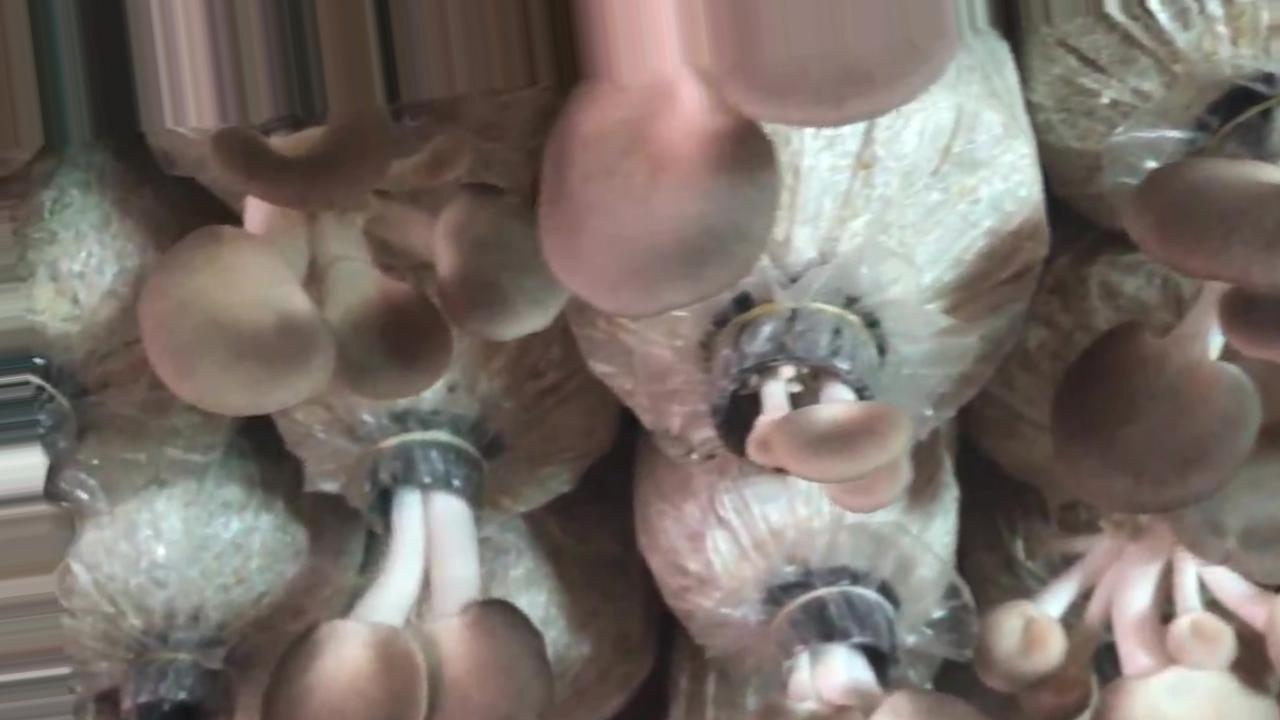nam: (536, 1, 956, 313), (145, 128, 570, 416), (1050, 99, 1280, 512), (263, 431, 549, 720), (978, 530, 1280, 717), (703, 307, 924, 517), (774, 577, 911, 720)
